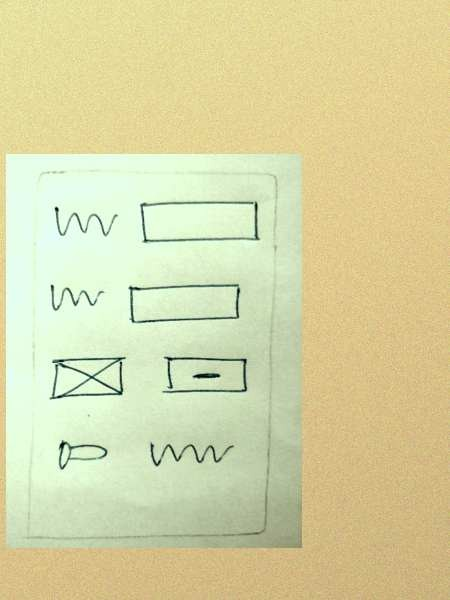button: (156, 352, 252, 403)
image: (45, 355, 132, 400)
switch: (50, 438, 111, 475)
text: (143, 437, 236, 471), (50, 205, 124, 241), (46, 280, 107, 314)
text_input: (136, 199, 261, 249), (124, 282, 243, 328)
